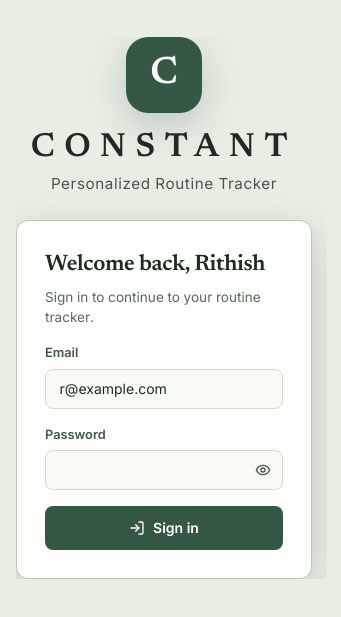
login portal › login mode rejects a wrong password and accepts the right one
This screenshot has width=341, height=617.
Later steps or results of the test are not shown.
In the password field labelled "Password": (164, 470) [45,450,283,490], type "nope"
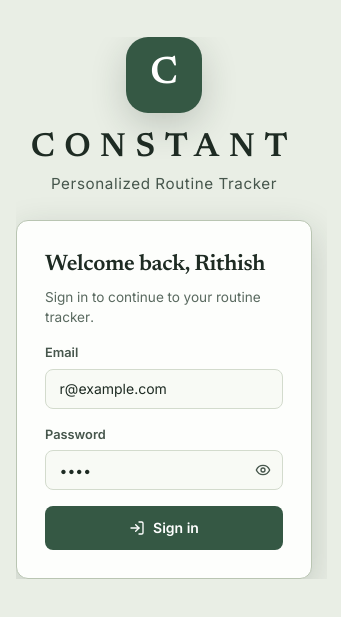
Click the button "Sign in": (164, 528) [45,506,283,550]
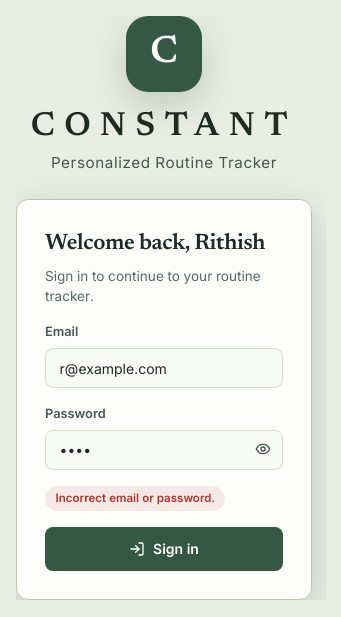
Result: the message shows "Incorrect" at [56,491,214,505]
